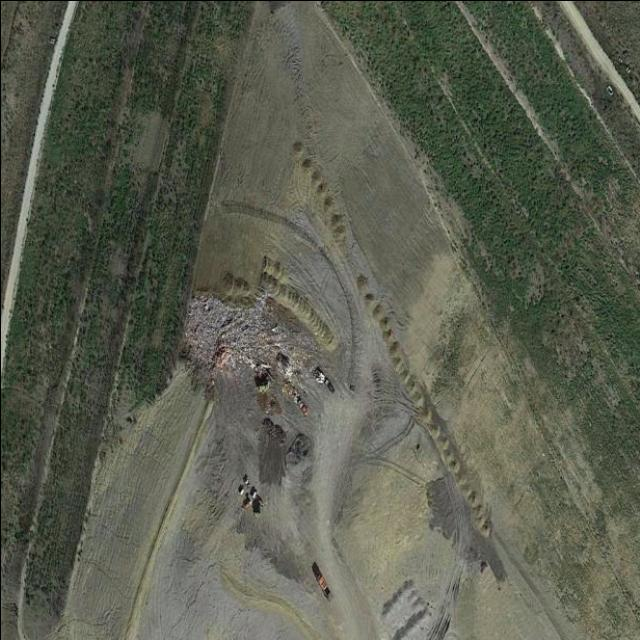dump_site: (184, 288, 316, 391)
